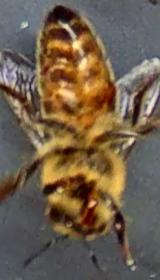varroa_mite: (96, 72, 120, 106)
